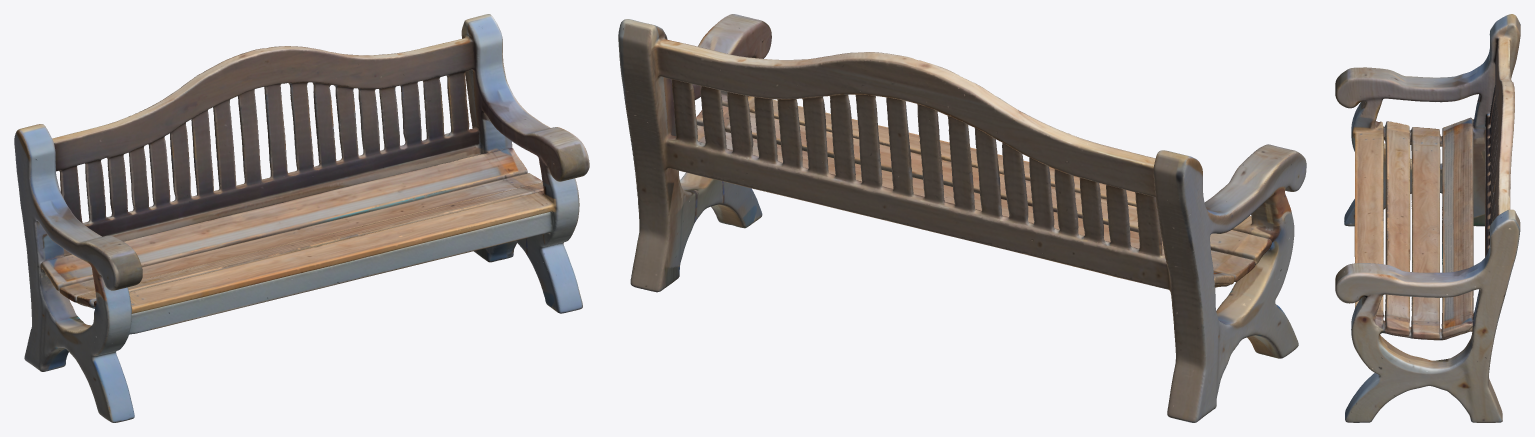
File: Meshy_AI_creami_una_panchina_i_0226073013_texture.glb
The picture shows the model from 3 angles, left to right: view 1: azimuth 30°, elevation 25°; view 2: azimuth 150°, elevation 25°; view 3: azimuth 270°, elevation 25°; orthographic projection. The views are drawn at different scales.
Size of the model in its own units: 2 by 1 by 0.7527.
1 material, 1 textured.
